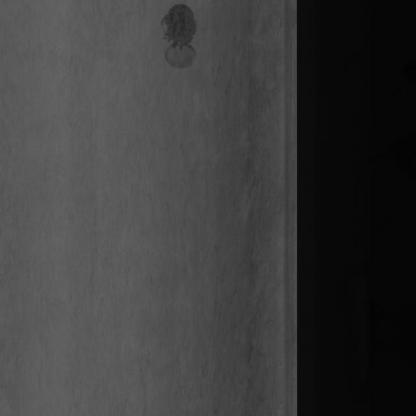oil_spot: (161, 4, 198, 74)
